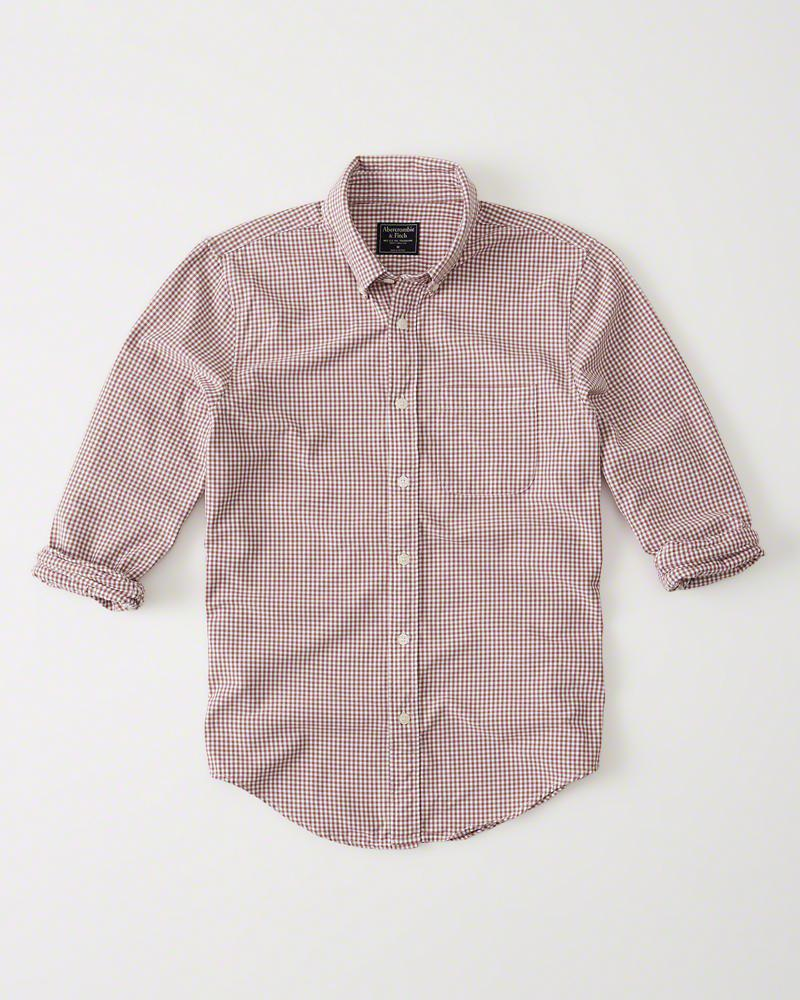teeshirt: (42, 148, 764, 851)
